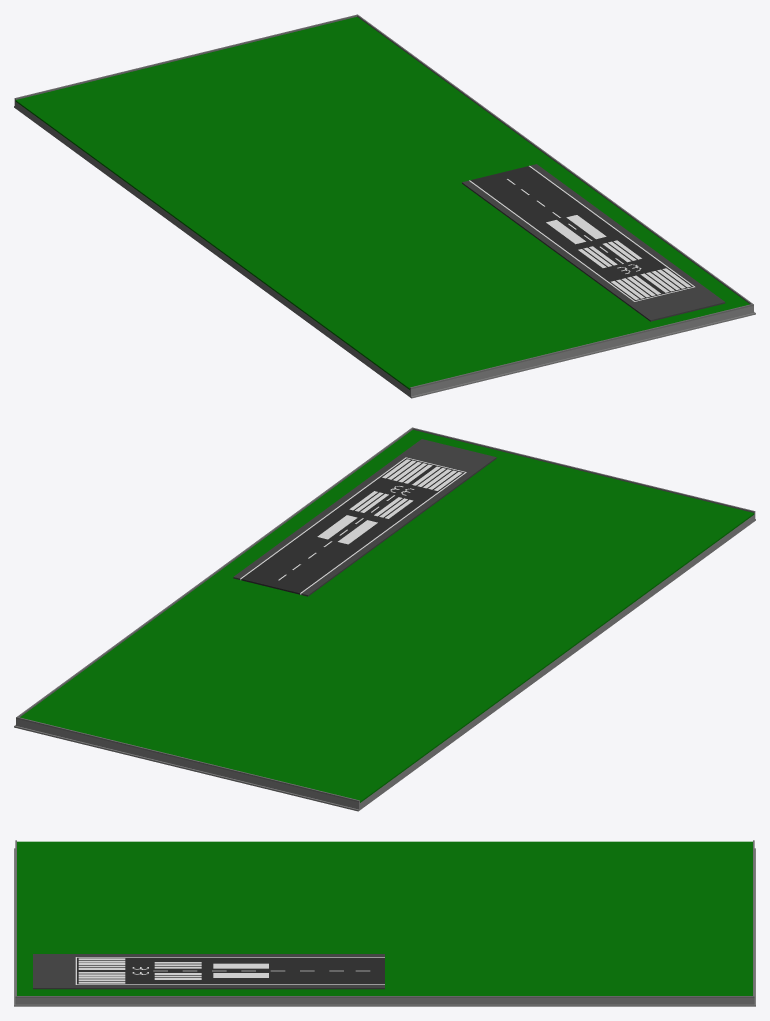
3 renders of one model, top to bottom at view 1: azimuth 30°, elevation 25°; view 2: azimuth 150°, elevation 25°; view 3: azimuth 270°, elevation 25°, orthographic. The views are drawn at different scales.
Visible parts, largest first — view 1: untitled-2, untitled-0.002; view 2: untitled-0.002, untitled-2; view 3: untitled-2, untitled-0.002.
Boxes of the visible parts, box(x1,y1,x2,y2) form: untitled-2: box(212, 159, 755, 398); untitled-0.002: box(14, 14, 555, 252); untitled-0.002: box(14, 572, 557, 811); untitled-2: box(214, 427, 755, 665); untitled-2: box(14, 840, 384, 1006); untitled-0.002: box(385, 840, 755, 1006).
Bounding box in the file's own units: 25.3 × 0.7 × 50.6.
Materials: 2 (2 with a texture image).
